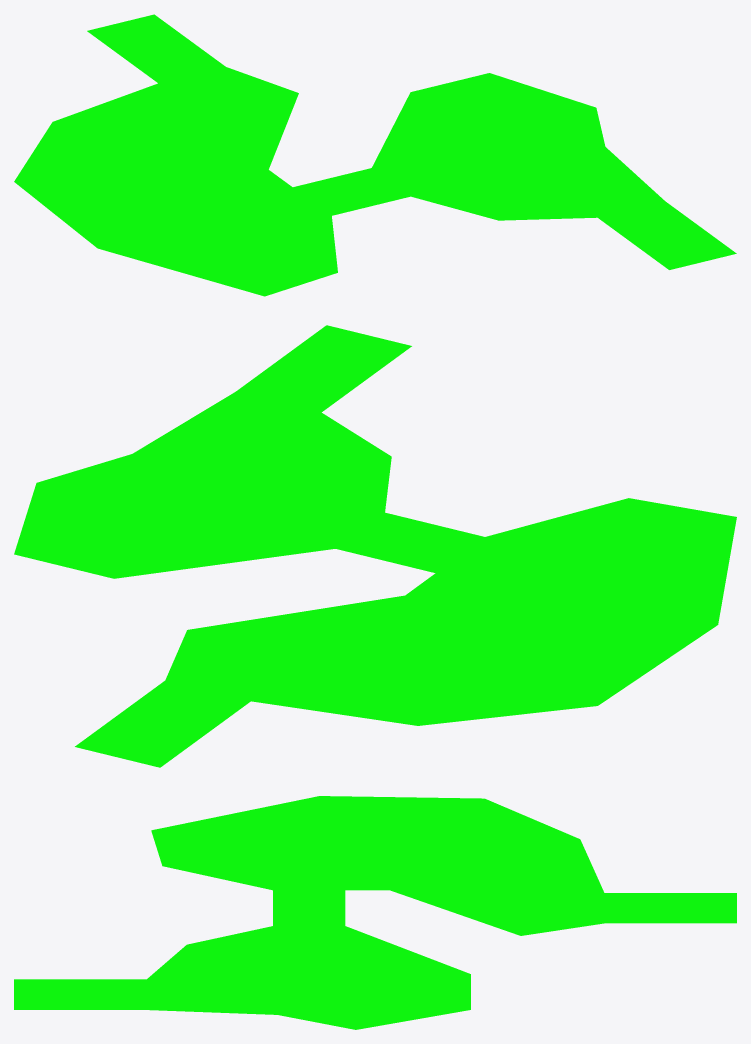
File: s03b_ic1-floor.glb
The picture shows the model from 3 angles, top to bottom: view 1: azimuth 30°, elevation 25°; view 2: azimuth 150°, elevation 25°; view 3: azimuth 270°, elevation 25°; orthographic projection. The views are drawn at different scales.
Parts seen in each view (by area): view 1: collision_floor-colonly; view 2: collision_floor-colonly; view 3: collision_floor-colonly.
Part boxes in pixels (bbox=[...]): collision_floor-colonly: bbox=[14, 14, 736, 296]; collision_floor-colonly: bbox=[14, 325, 736, 767]; collision_floor-colonly: bbox=[14, 796, 736, 1029].
Size of the model in its own units: 45.95 by 0 by 60.
